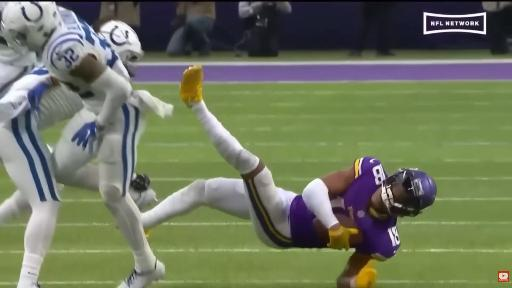Helmet: (0, 2, 61, 53), (382, 169, 436, 216), (99, 21, 143, 76)
Jersey: (42, 8, 129, 114), (331, 157, 400, 260), (38, 85, 83, 130), (38, 86, 83, 130), (0, 29, 36, 66)
Player: (143, 67, 436, 287), (2, 2, 164, 287), (38, 86, 98, 190), (0, 31, 36, 98)
